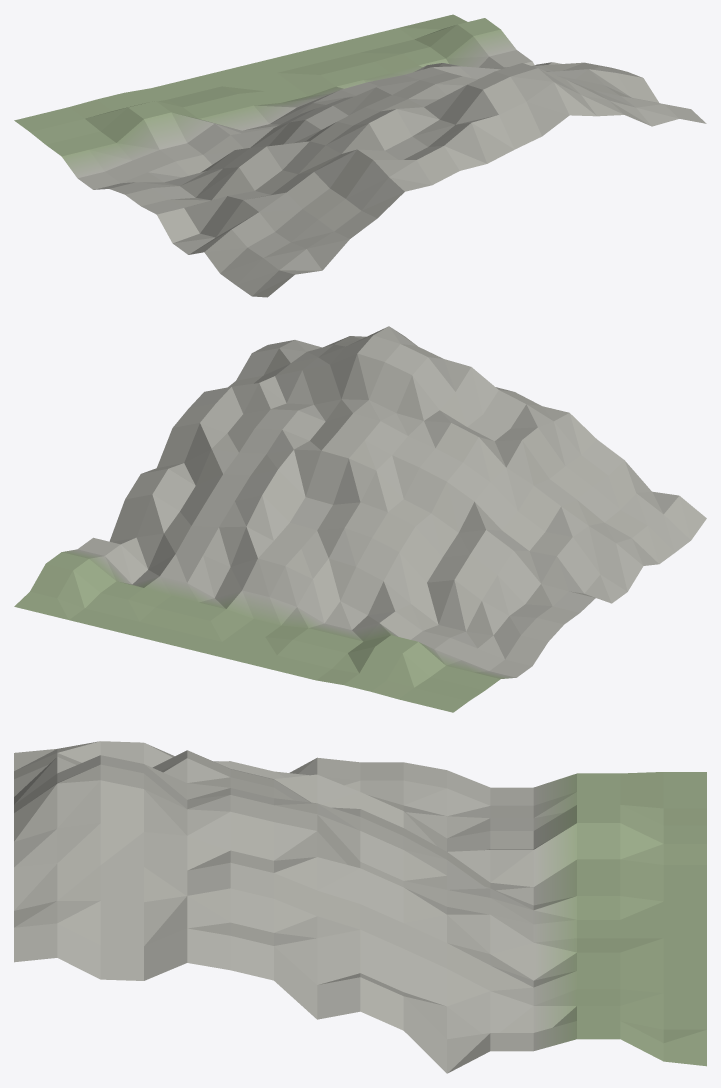
The picture shows the model from 3 angles, top to bottom: view 1: azimuth 30°, elevation 25°; view 2: azimuth 150°, elevation 25°; view 3: azimuth 270°, elevation 25°; orthographic projection. The views are drawn at different scales.
Size of the model in its own units: 32 by 10.66 by 32.
